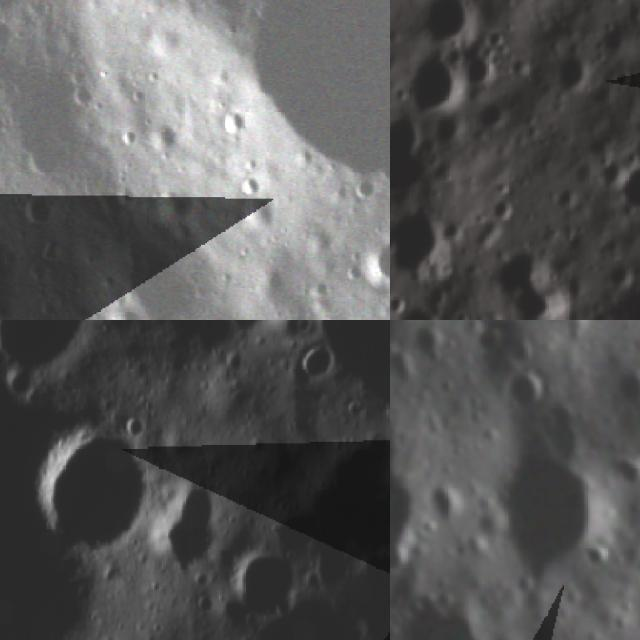crater: (239, 0, 390, 199), (477, 427, 626, 587), (34, 435, 153, 544), (490, 227, 584, 320), (390, 199, 461, 292), (390, 45, 468, 122), (230, 547, 302, 626), (0, 320, 95, 377), (156, 486, 222, 566), (494, 358, 562, 422), (399, 0, 482, 51), (549, 41, 607, 103), (0, 222, 33, 320), (153, 176, 200, 228), (390, 105, 426, 163), (357, 234, 390, 296), (460, 50, 499, 97), (16, 186, 58, 228), (431, 110, 471, 150), (146, 114, 180, 160), (614, 160, 640, 220), (472, 97, 512, 136), (478, 194, 521, 227), (304, 341, 332, 390), (0, 13, 20, 64), (104, 300, 141, 320), (228, 320, 265, 332)
